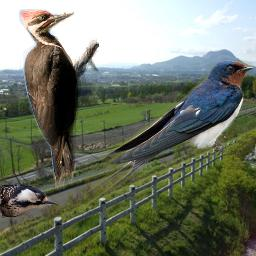Swallow: (84, 60, 255, 203)
Woodpecker: (19, 9, 99, 189), (0, 182, 58, 218)
